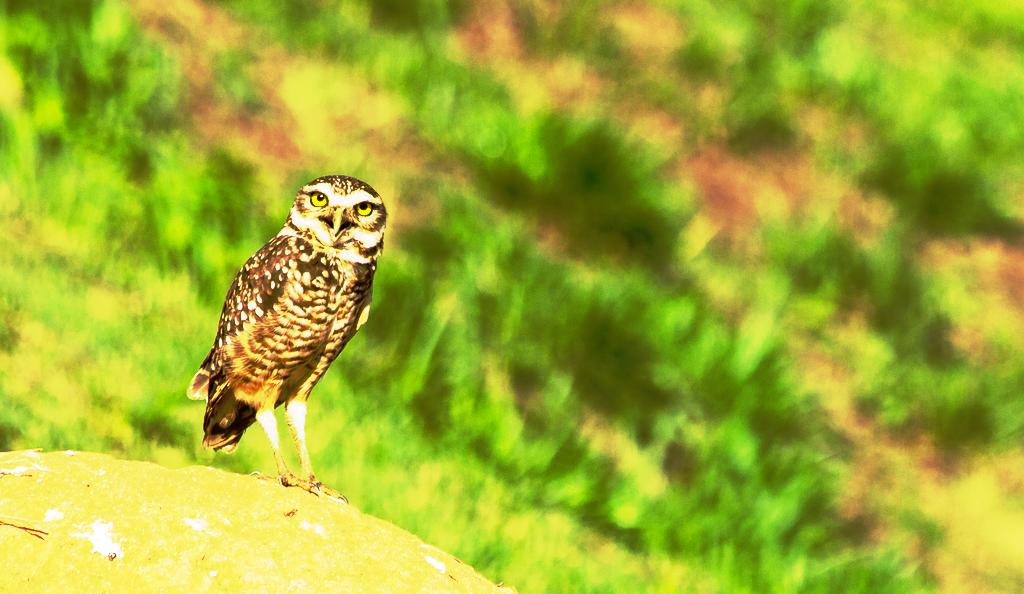Owl: (175, 162, 400, 500)
